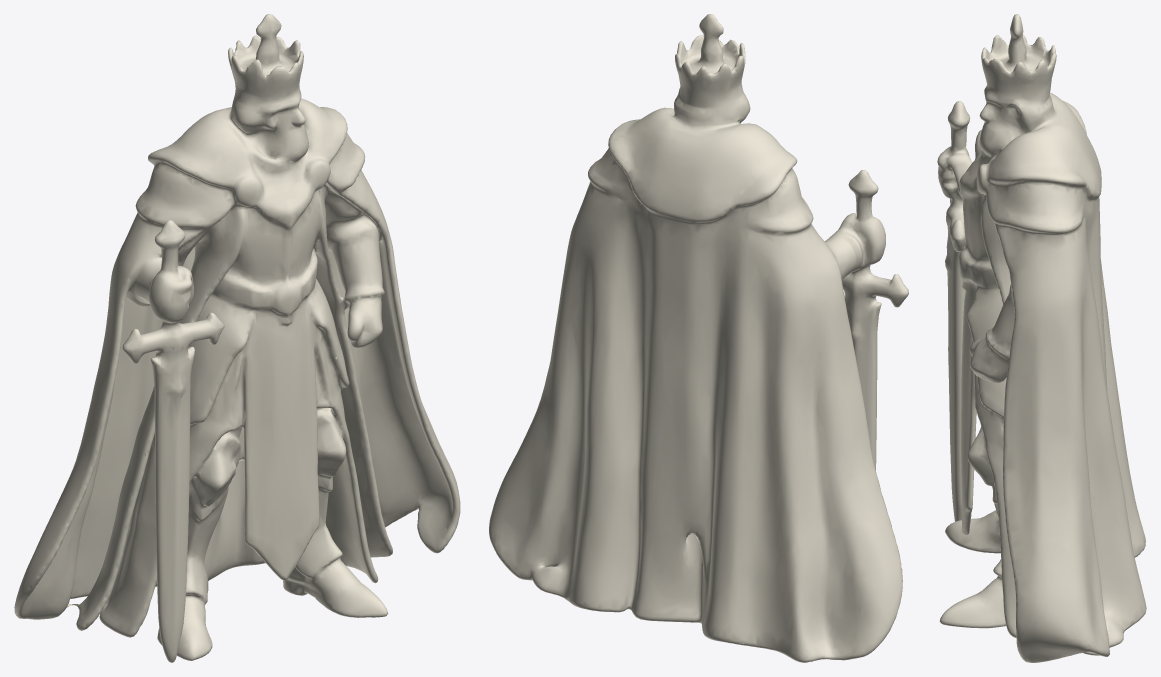
Rendered from ru-korol.glb.
3 renders of one model, left to right at view 1: azimuth 30°, elevation 25°; view 2: azimuth 150°, elevation 25°; view 3: azimuth 270°, elevation 25°, orthographic. The views are drawn at different scales.
Visible parts, largest first — view 1: world; view 2: world; view 3: world.
Part boxes in pixels (x1,y1,x2,y2): world: [14, 14, 460, 662]; world: [489, 14, 908, 662]; world: [937, 14, 1146, 662].
Size of the model in its own units: 1.48 by 2 by 0.6569.
